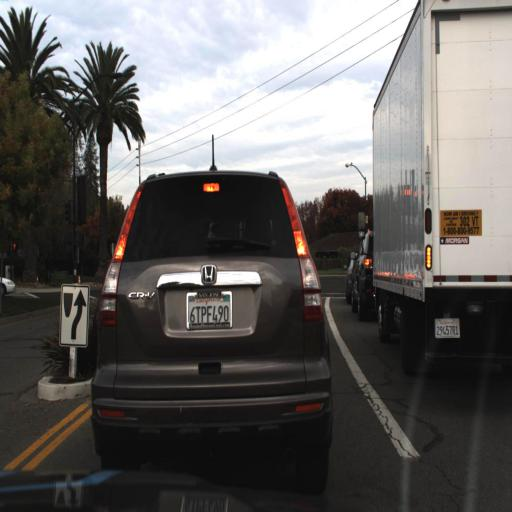car: (95, 166, 331, 480), (349, 229, 380, 313), (340, 236, 362, 308), (0, 270, 16, 298)
truck: (368, 0, 511, 373)
